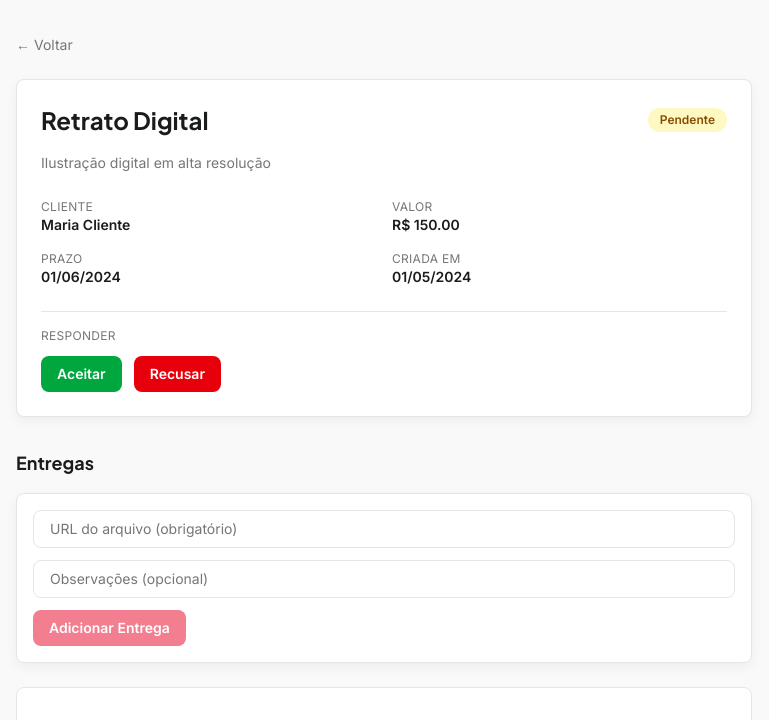
it: ArtistaComissaoDetalhes › creates delivery and updates the list
This screenshot has width=769, height=720.
Expected: the heading "Retrato Digital" is shown, top-left (41, 104), bottom-right (208, 136)
Type "https://cdn.example.com/art.png" into the field with placeholder "URL do arquivo (obrigatório)".
click(384, 529); type("https://cdn.example.com/art.png")  # box top-left (33, 510), bottom-right (735, 548)
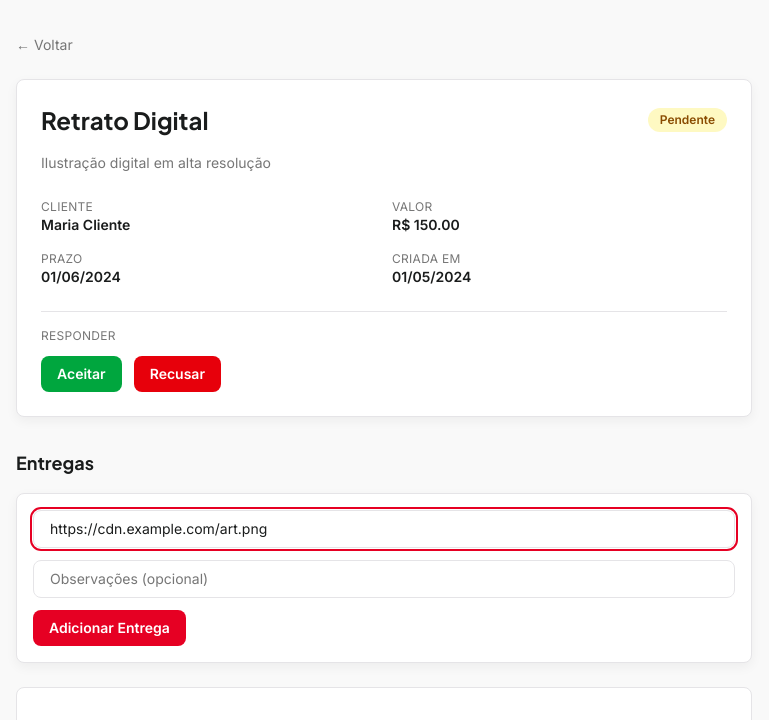
Type "Versão final" into the field with placeholder "Observações (opcional)".
click(384, 579); type("Versão final")  # box top-left (33, 560), bottom-right (735, 598)
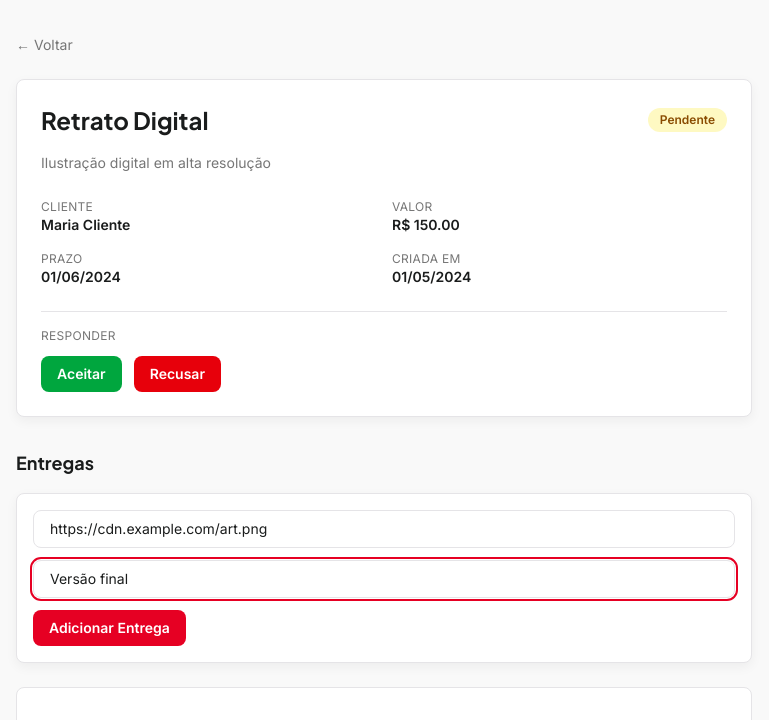
Click the button "Adicionar Entrega".
click(109, 628)  # box top-left (33, 610), bottom-right (186, 646)
(page scrolled)
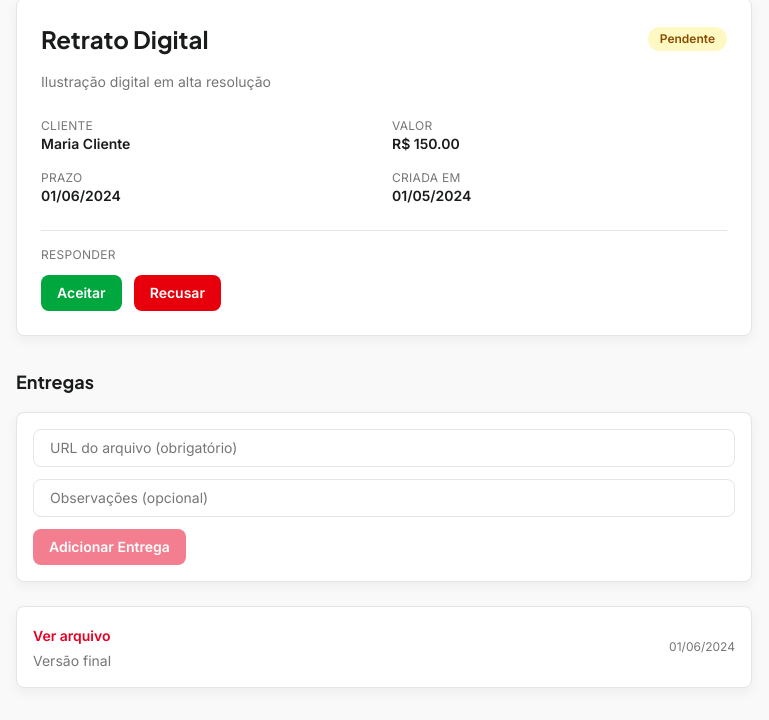
Now the text "Versão final" is shown, box top-left (33, 651), bottom-right (111, 671)
Now the link "Ver arquivo" is shown, box top-left (33, 627), bottom-right (110, 644)
